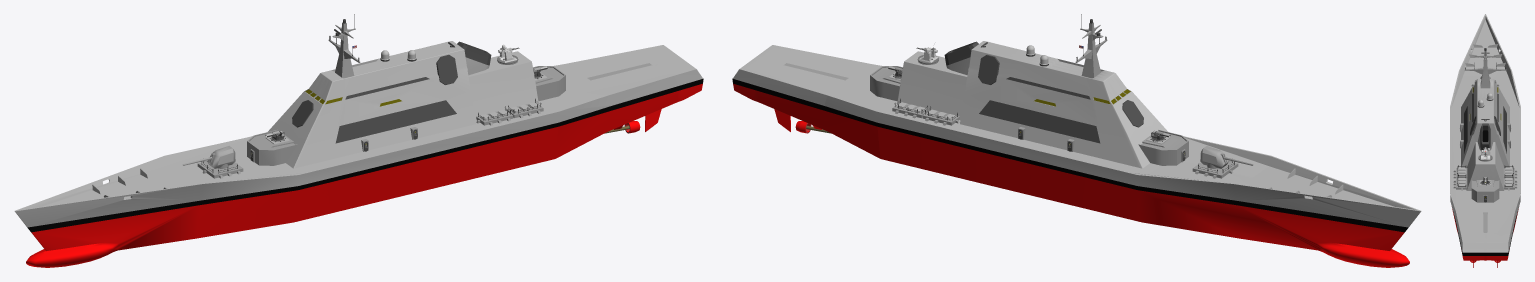
Rendered from ship.glb.
The picture shows the model from 3 angles, left to right: view 1: azimuth 30°, elevation 25°; view 2: azimuth 150°, elevation 25°; view 3: azimuth 270°, elevation 25°; orthographic projection. The views are drawn at different scales.
Visible parts, largest first — view 1: polySurface1883; view 2: polySurface1883; view 3: polySurface1883.
Part boxes in pixels (x1,y1,x2,y2): polySurface1883: [14, 14, 703, 267]; polySurface1883: [732, 14, 1421, 267]; polySurface1883: [1450, 14, 1520, 267].
Size of the model in its own units: 36.43 by 9.34 by 4.83.
